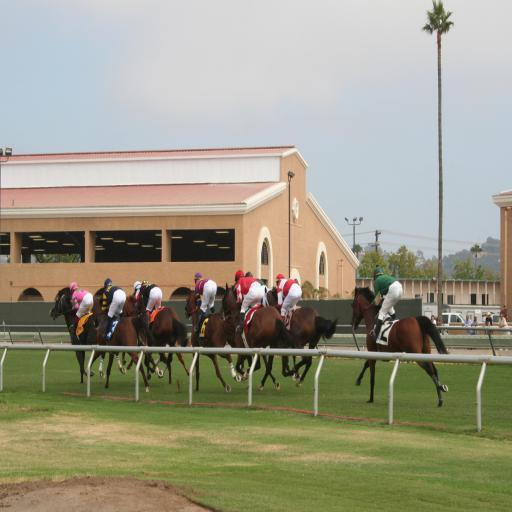horse: (49, 281, 339, 396), (350, 284, 450, 408)
